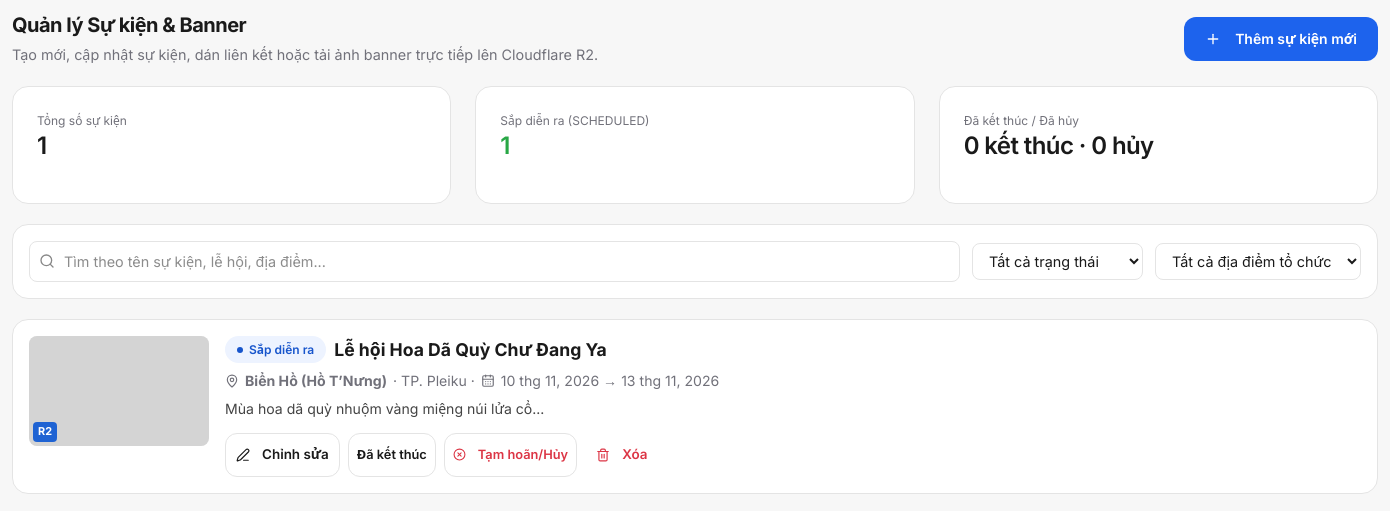
Test: Admin Events CRUD & Banner Cloudflare R2 (AdminEventsManager) › xóa sự kiện thành công khi xác nhận
The image size is (1390, 511).
Click the button "Xóa" at (622, 455), box [585, 433, 658, 477]
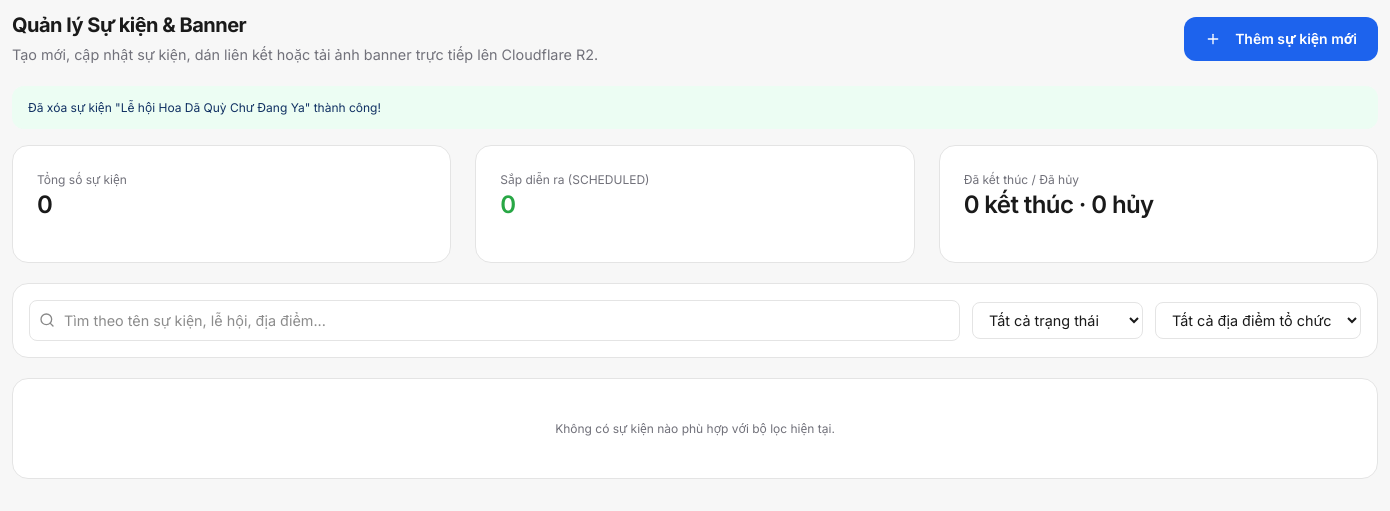
Now the text "Đã xóa sự kiện \"Lễ hội Hoa Dã Quỳ Chư Đang Ya\" thành công!" is shown, box [12, 86, 1378, 129]
